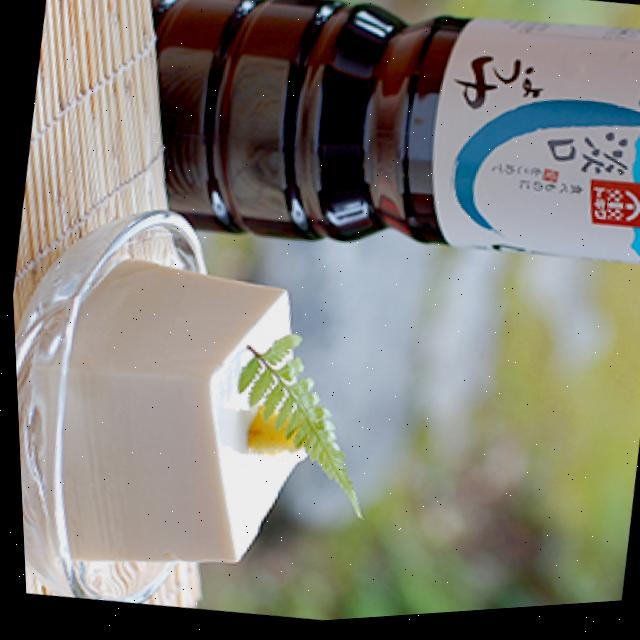豆腐料理: (19, 231, 404, 609)
